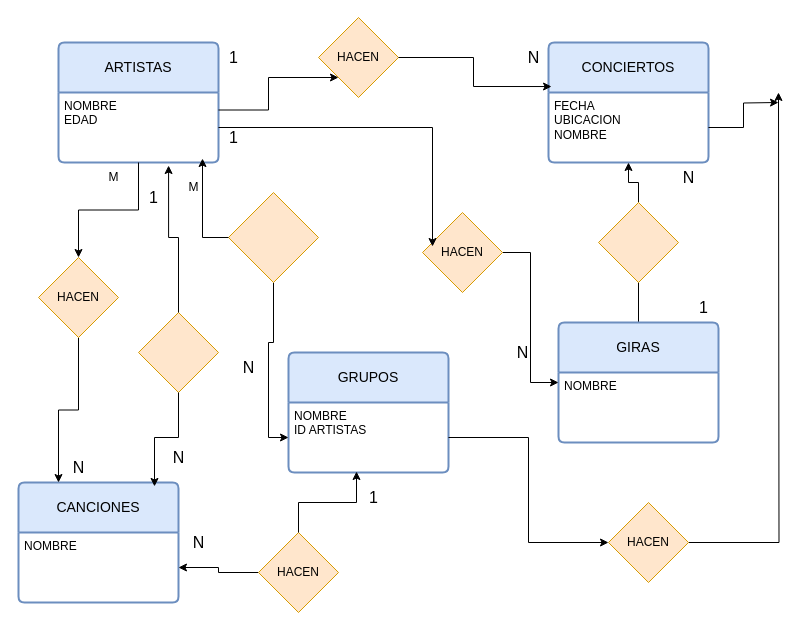
The diagram is 804 pixels wide and 630 high, and some of its shapes have lost their labels. The centre of each missing label's shape, as x and y in pixels:
"CONTIENE" belongs at pixel 638 242.
"ES PRINCIPAL" belongs at pixel 178 352.
"PERTENECE" belongs at pixel 273 237.
